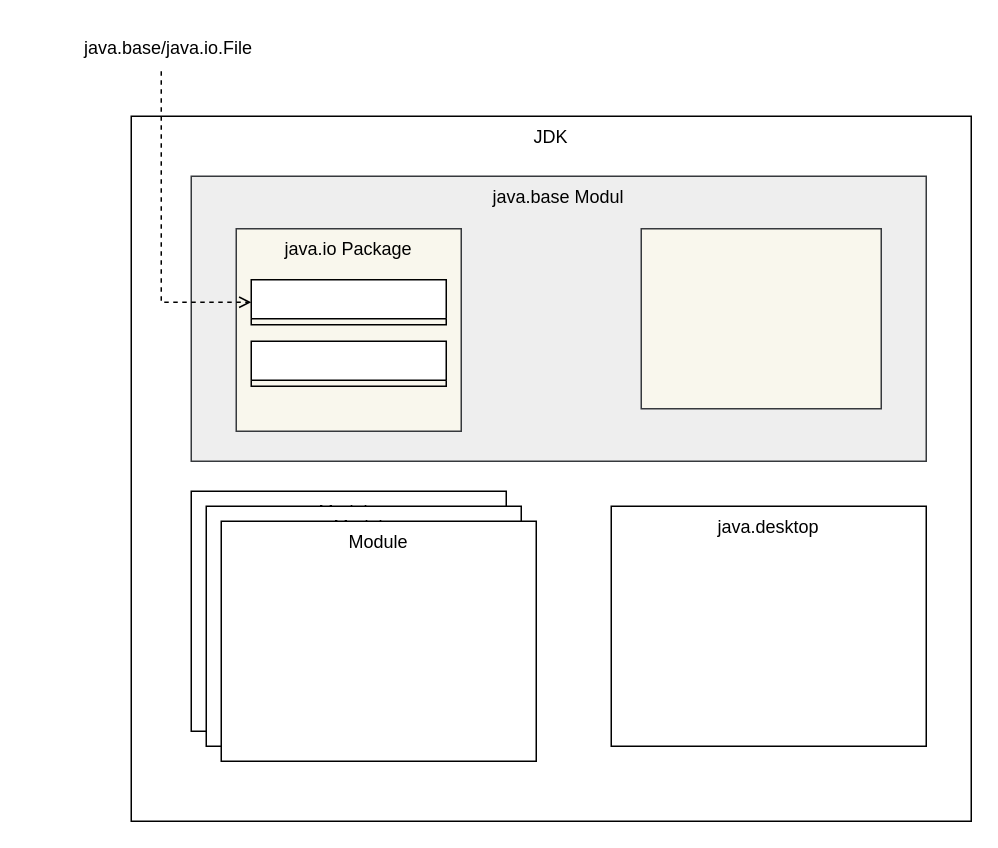
Image size: 998x848. Some labels were removed from this diagram. Each missing label, with the centre of its shape:
File (Klasse): pixel 348 301
FileReader (Klasse): pixel 348 363
java.util Package: pixel 760 318
